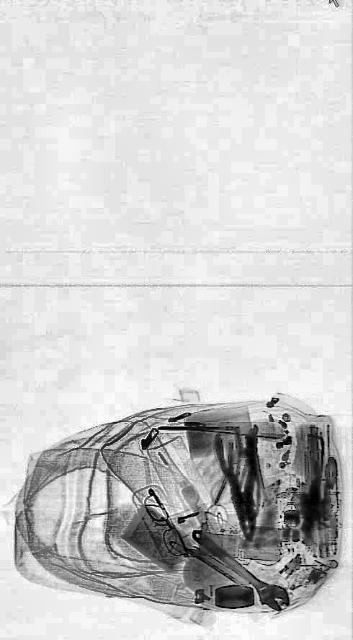Pliers: (212, 422, 268, 550)
Wrench: (188, 516, 292, 622)
